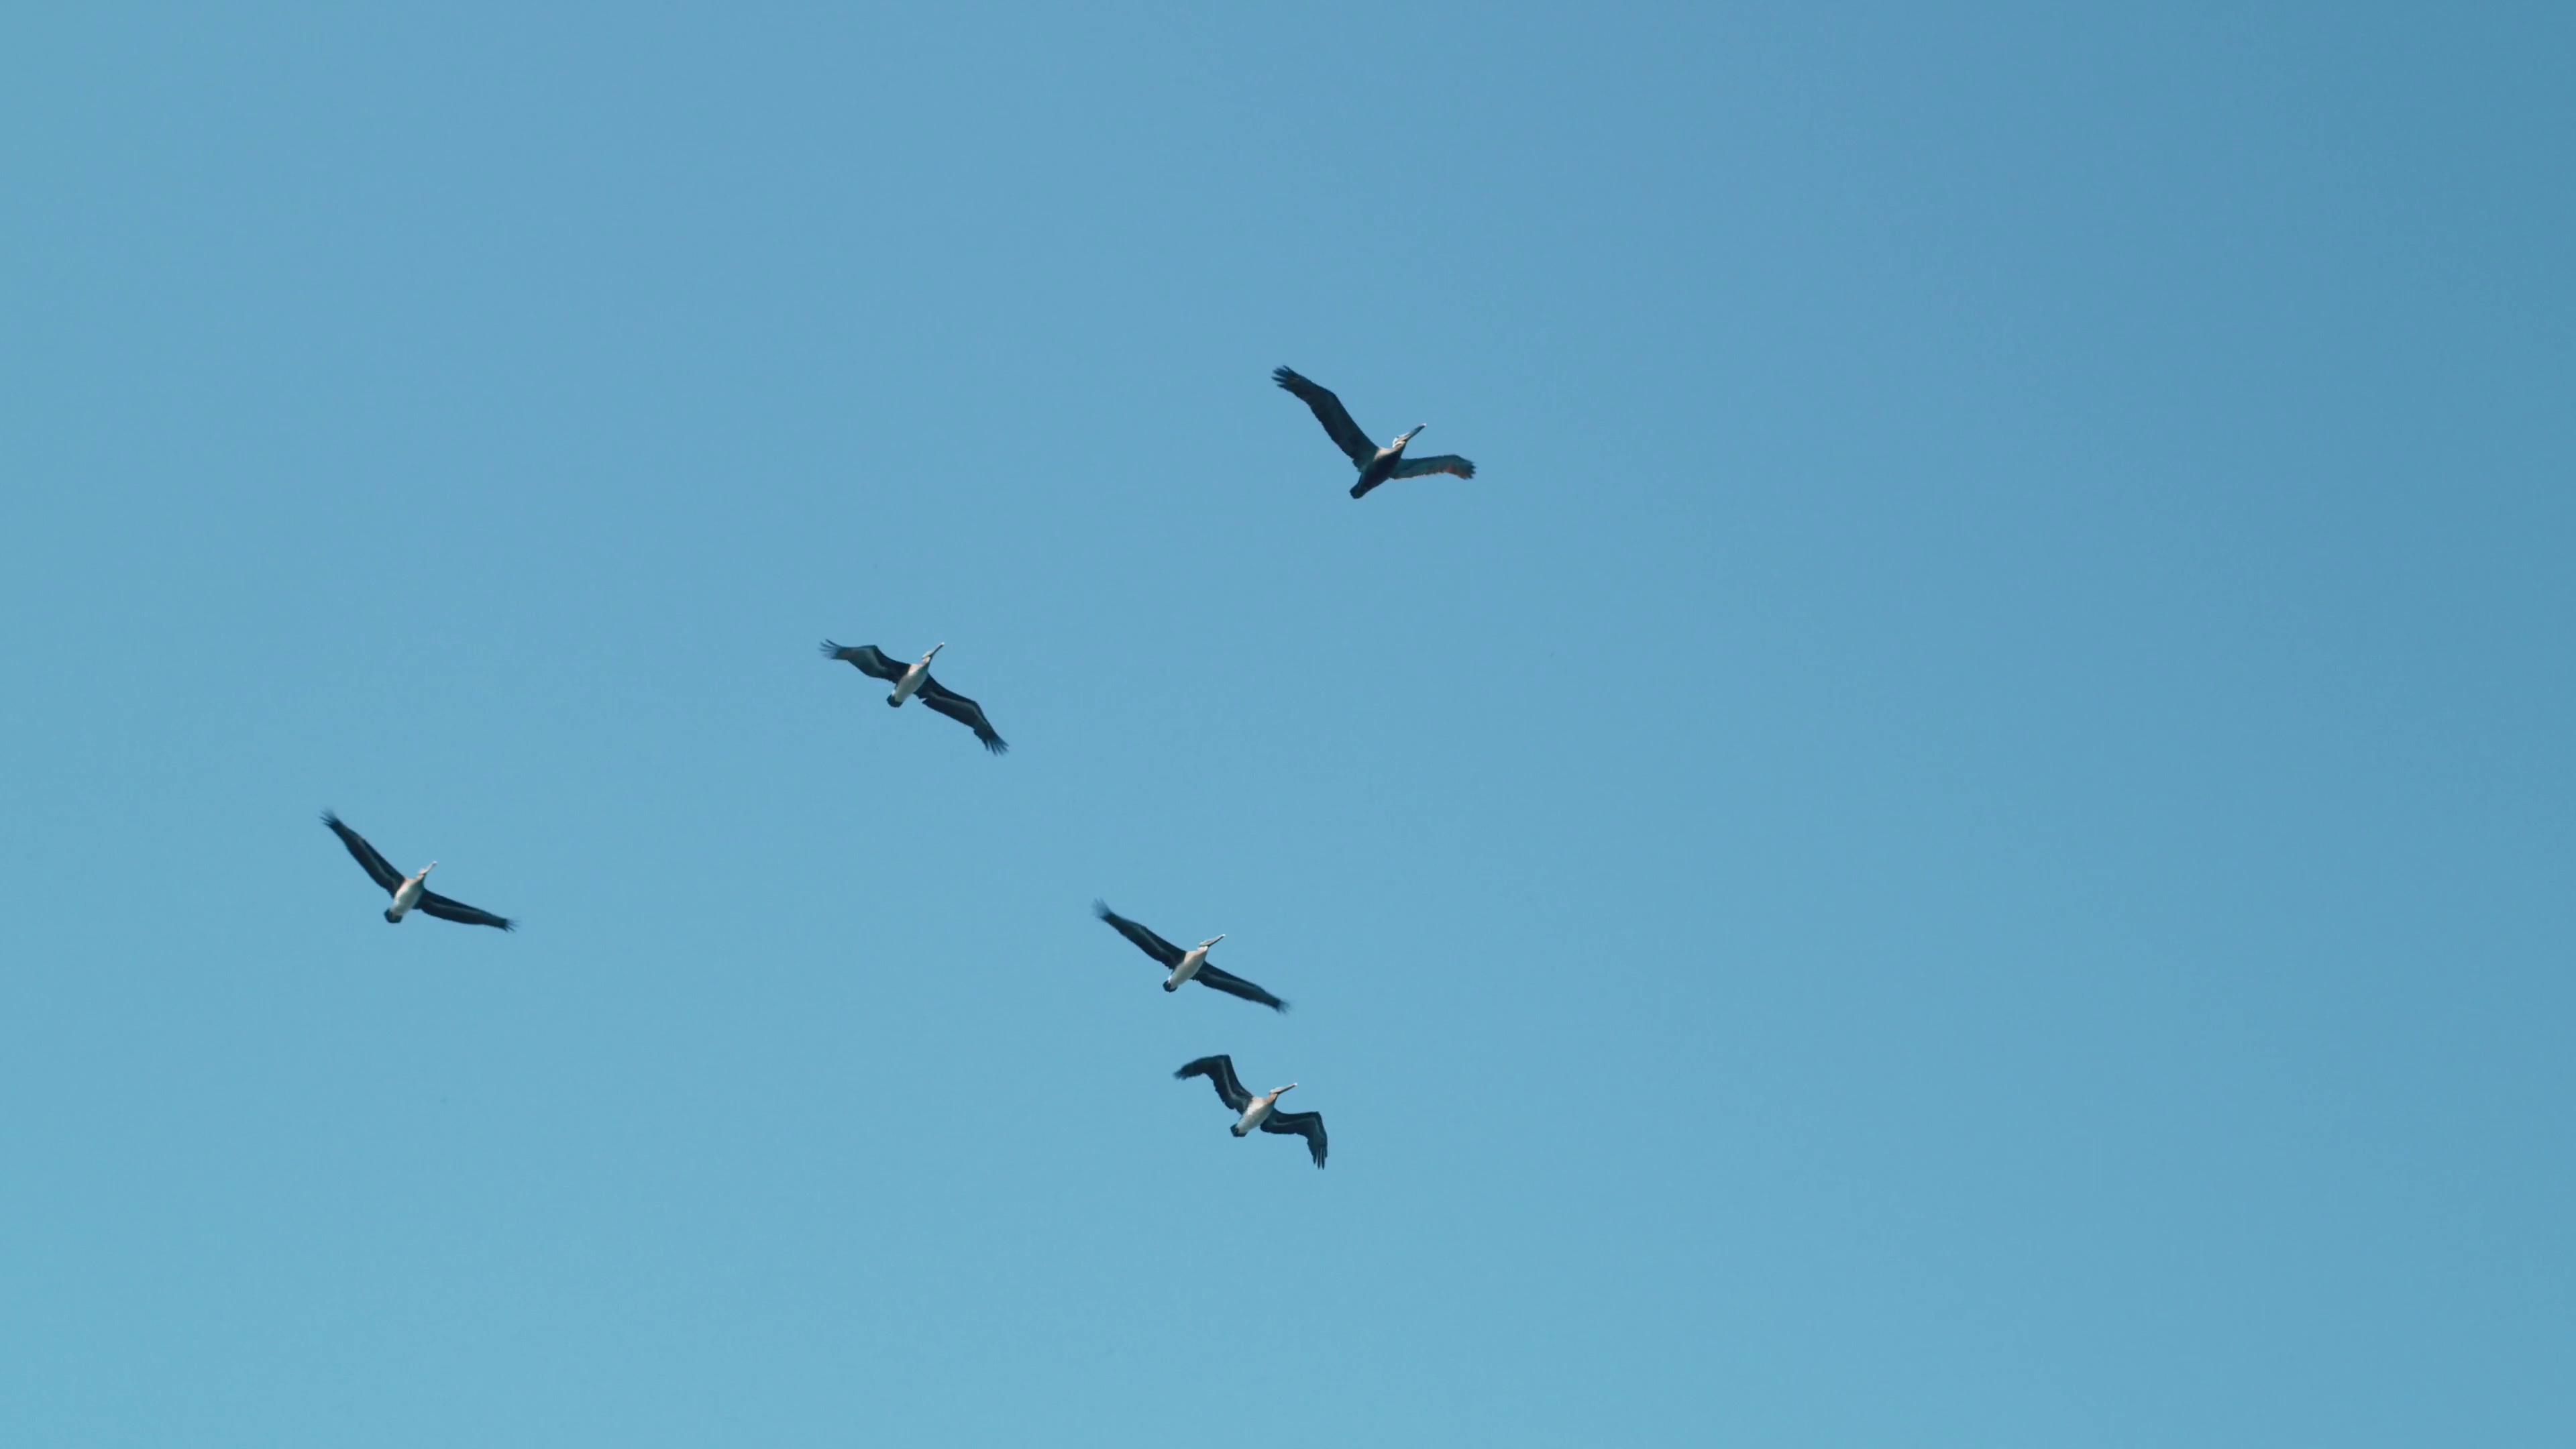bird: (1272, 364, 1477, 499), (1092, 892, 1292, 1019), (318, 810, 515, 938), (817, 630, 1008, 759), (1171, 1047, 1330, 1169)
